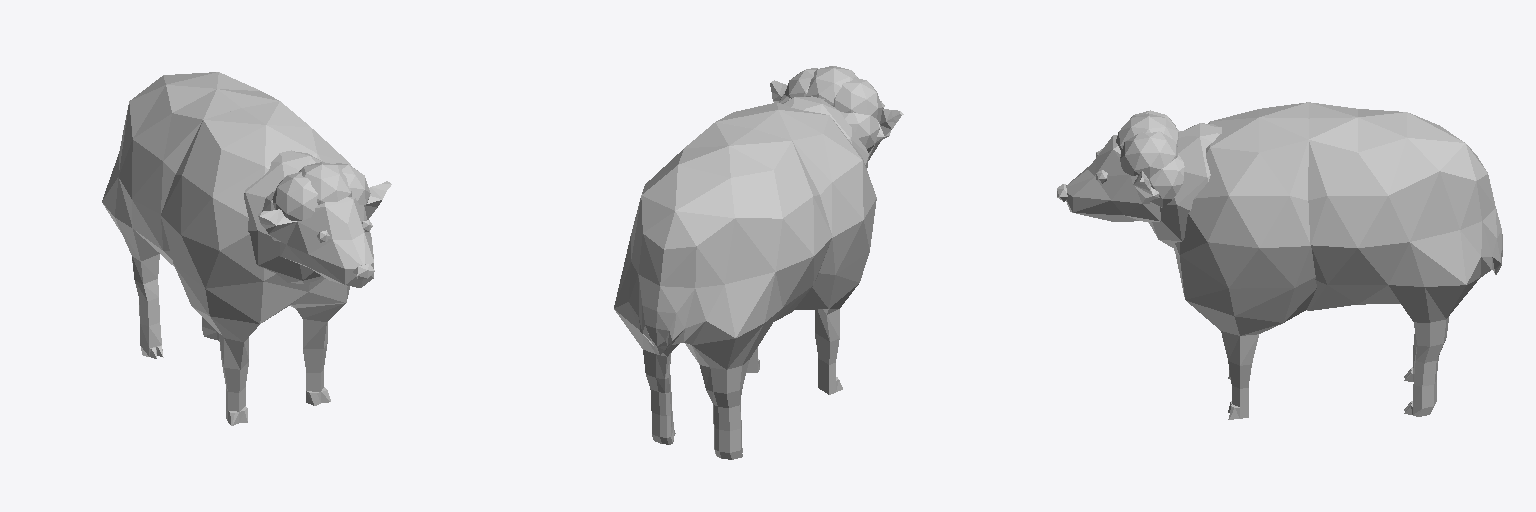
File: sheep.obj
3 renders of one model, left to right at view 1: azimuth 30°, elevation 25°; view 2: azimuth 150°, elevation 25°; view 3: azimuth 270°, elevation 25°, orthographic.
Visible parts, largest first — view 1: Sheep.1; view 2: Sheep.1; view 3: Sheep.1.
Boxes of the visible parts, box(x1,y1,x2,y2) form: Sheep.1: box(102, 72, 391, 425); Sheep.1: box(614, 66, 903, 459); Sheep.1: box(1057, 102, 1502, 419).
Size of the model in its own units: 338 by 528 by 766.